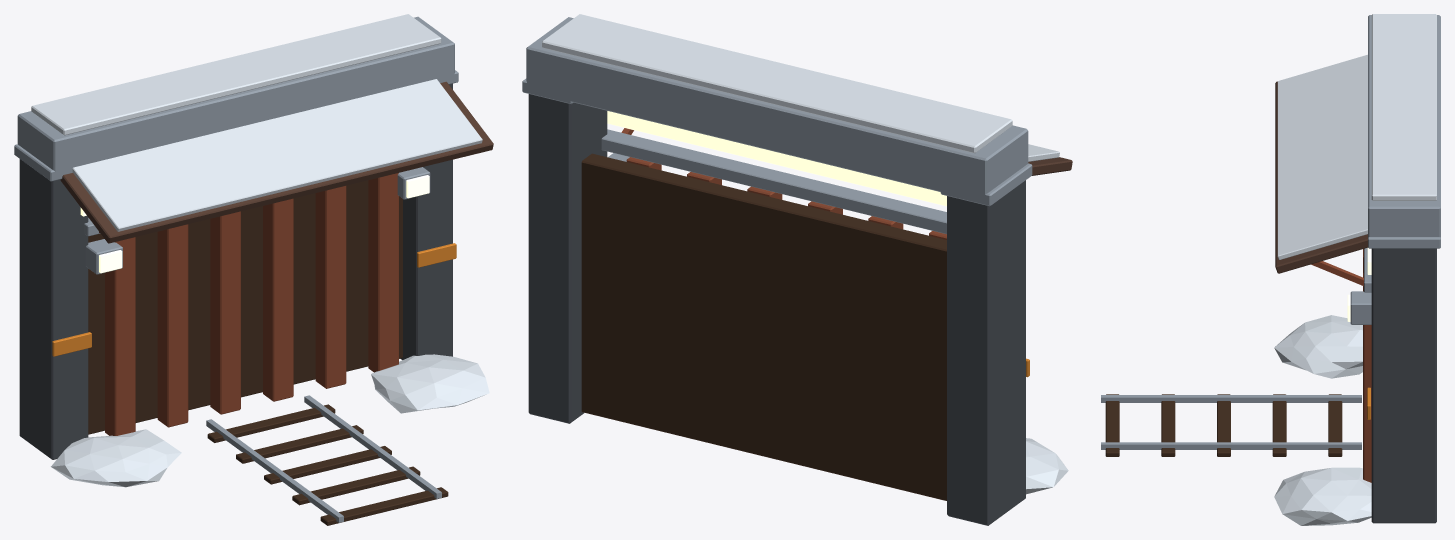
The model's file is MenuDepotGate.fbx.
3 views of the same model, side by side, from view 1: azimuth 30°, elevation 25°; view 2: azimuth 150°, elevation 25°; view 3: azimuth 270°, elevation 25° (orthographic). The views are drawn at different scales.
Parts seen in each view (by area): view 1: MenuDepotGate; view 2: MenuDepotGate; view 3: MenuDepotGate.
Boxes of the visible parts, left/top/right/bottom form: MenuDepotGate: left=14, top=14, right=493, bottom=525; MenuDepotGate: left=522, top=14, right=1072, bottom=525; MenuDepotGate: left=1101, top=14, right=1440, bottom=525.
Bounding box in the file's own units: 1240 × 959 × 885.
